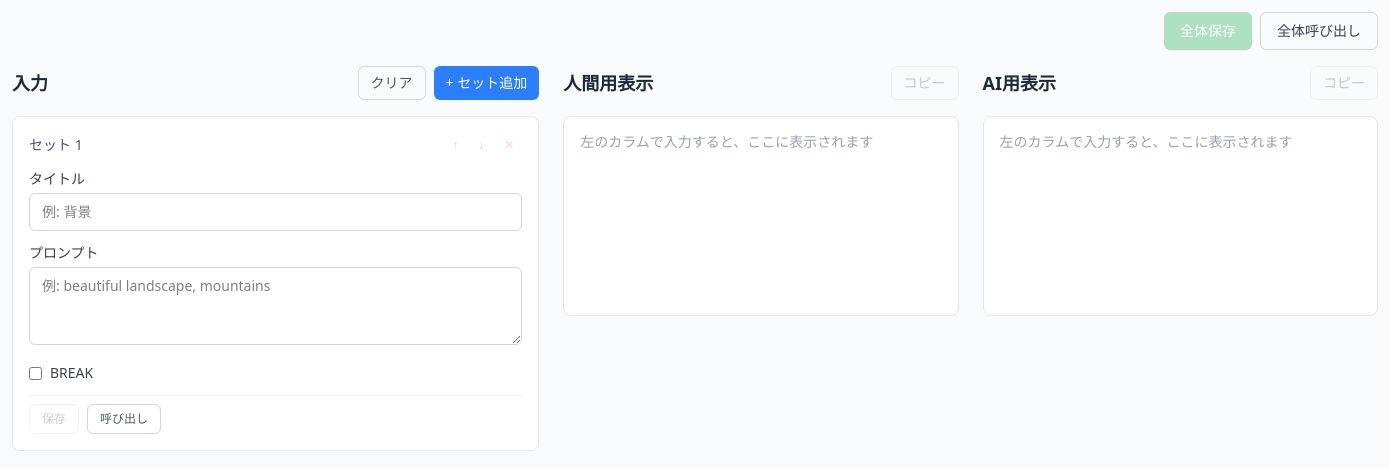
Test: PromptGenerator › クリアボタンで全セットがリセットされる
In the field labelled "タイトル": (276, 212) [29, 193, 522, 231], type "テスト"
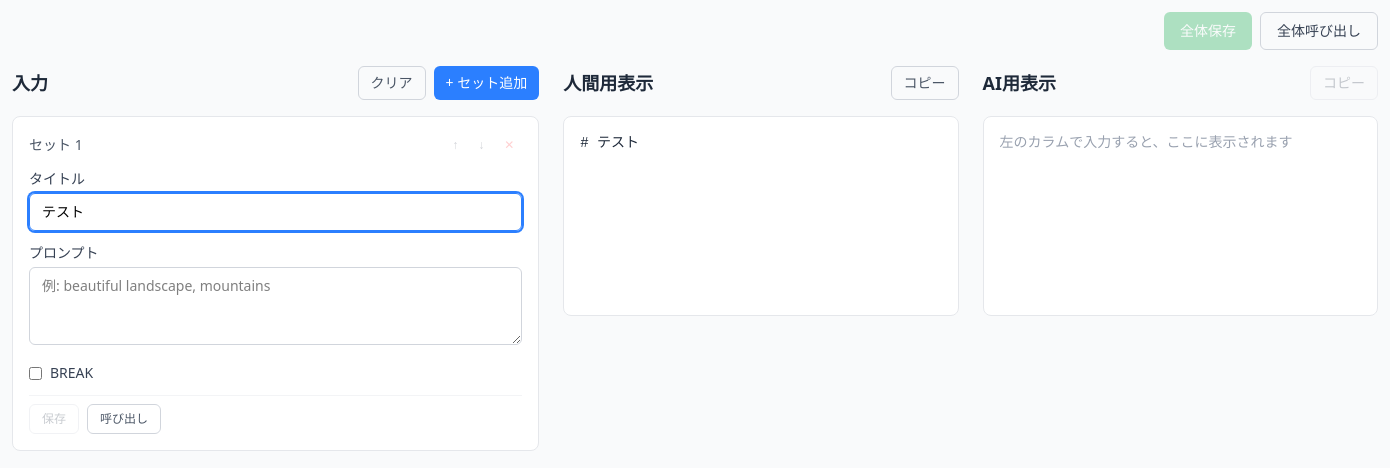
In the text box labelled "プロンプト": (276, 306) [29, 267, 522, 345], type "prompt"
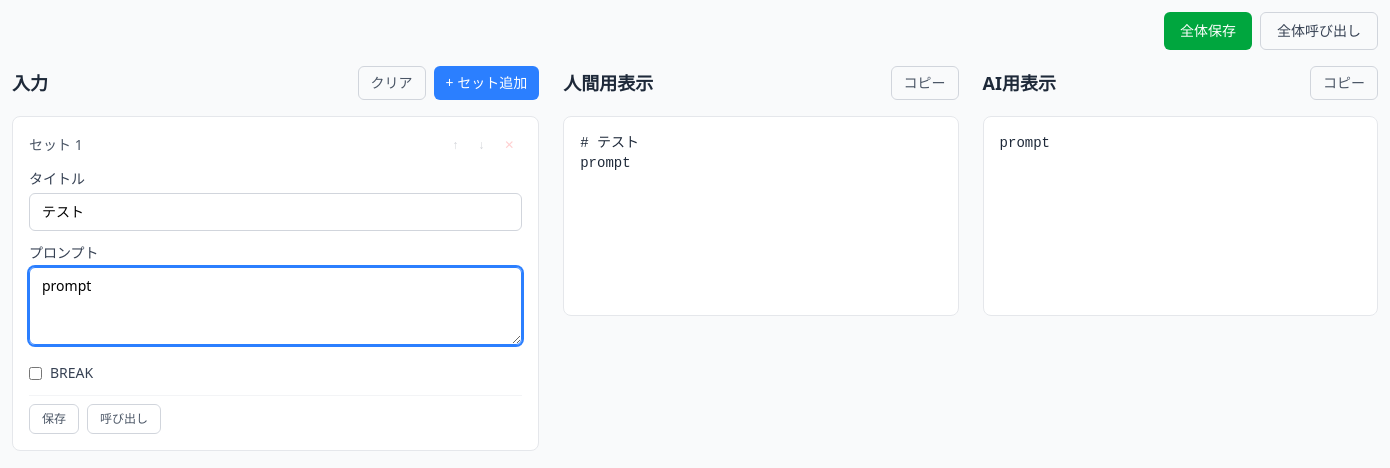
Click the button "クリア": (392, 83) [358, 66, 426, 100]
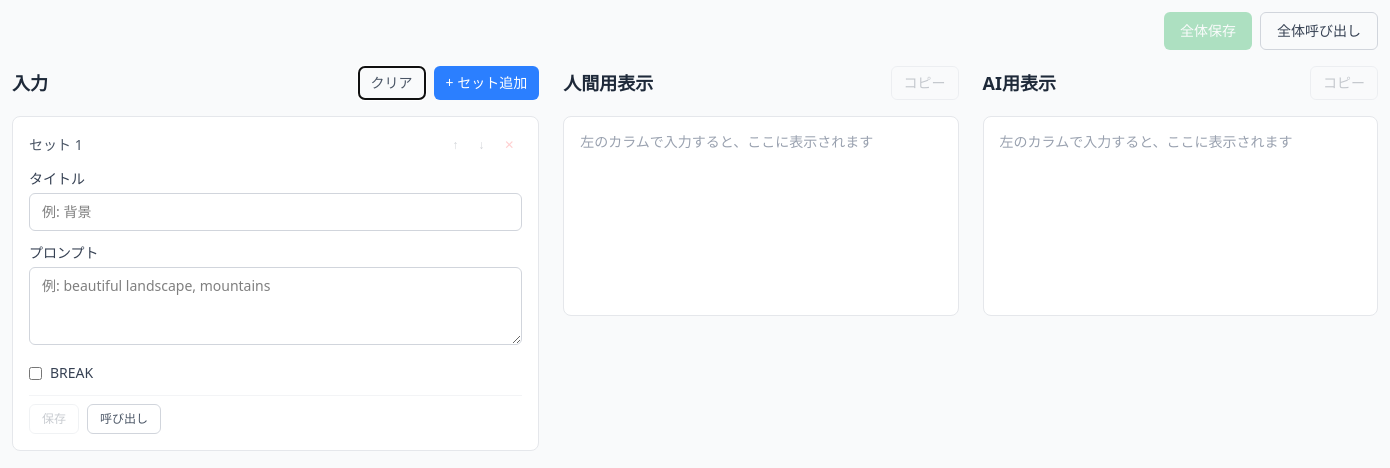
Check: the field labelled "タイトル" is empty, box [29, 193, 522, 231]
Check: the text box labelled "プロンプト" is empty, box [29, 267, 522, 345]
